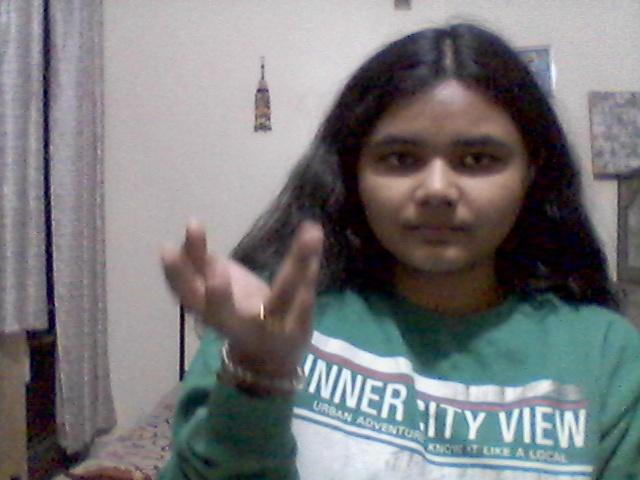what: (150, 211, 345, 380)
